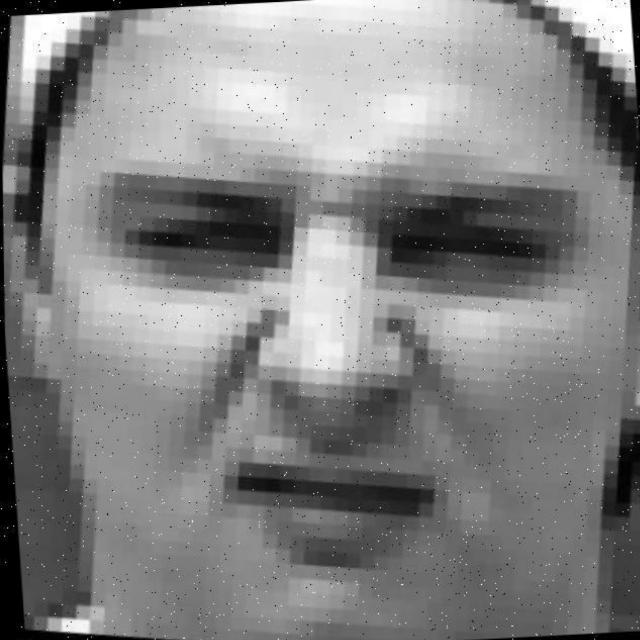Angry: (29, 45, 640, 640)
